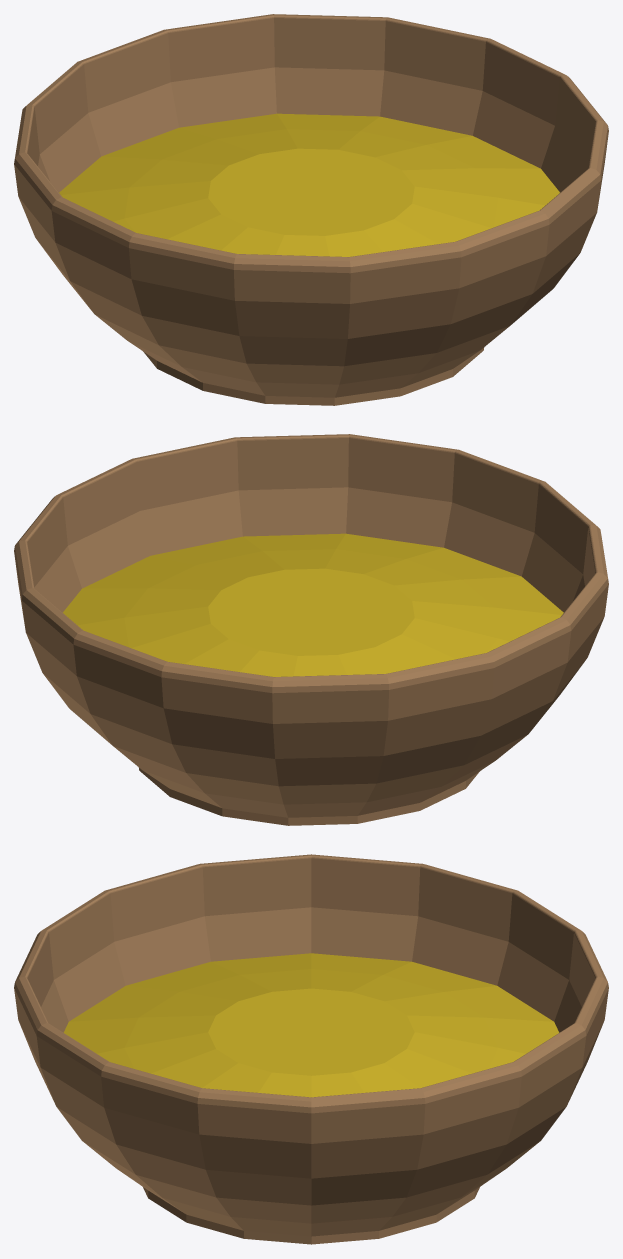
File: Food Bowl Var 1 Filled.fbx
3 views of the same model, one above another, from view 1: azimuth 30°, elevation 25°; view 2: azimuth 150°, elevation 25°; view 3: azimuth 270°, elevation 25° (orthographic).
Parts seen in each view (by area): view 1: Food Bowl Var 1 Filled; view 2: Food Bowl Var 1 Filled; view 3: Food Bowl Var 1 Filled.
Part boxes in pixels (bbox=[...]): Food Bowl Var 1 Filled: bbox=[14, 14, 608, 405]; Food Bowl Var 1 Filled: bbox=[14, 434, 608, 825]; Food Bowl Var 1 Filled: bbox=[14, 854, 608, 1244].
Size of the model in its own units: 47.94 by 17.18 by 47.94.
